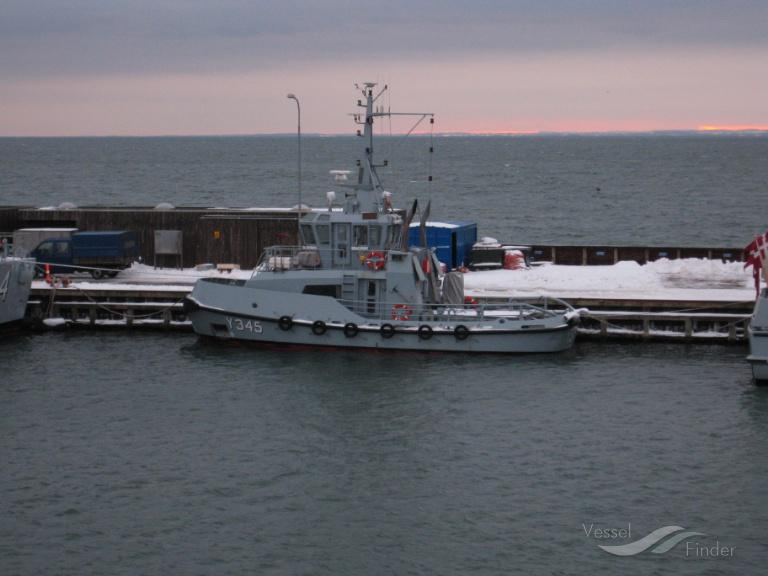OCR: (224, 310, 264, 336)
